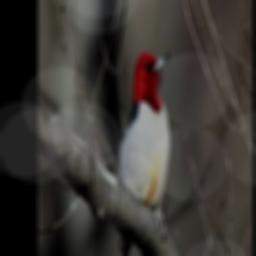Woodpecker: (116, 51, 173, 256)
